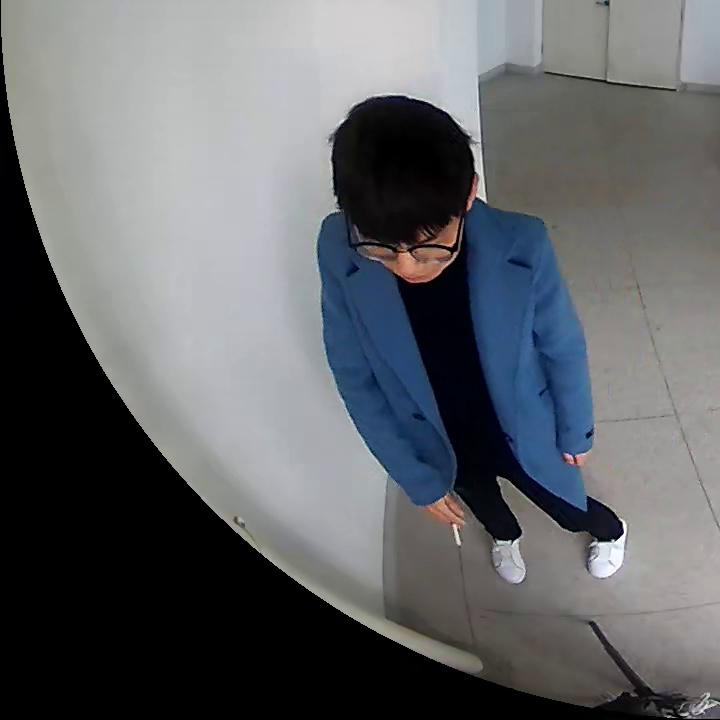handsmoke: (427, 497, 466, 550)
handwithoutsmoke: (565, 454, 592, 469)
mouthwithoutsmoke: (330, 93, 472, 283)
